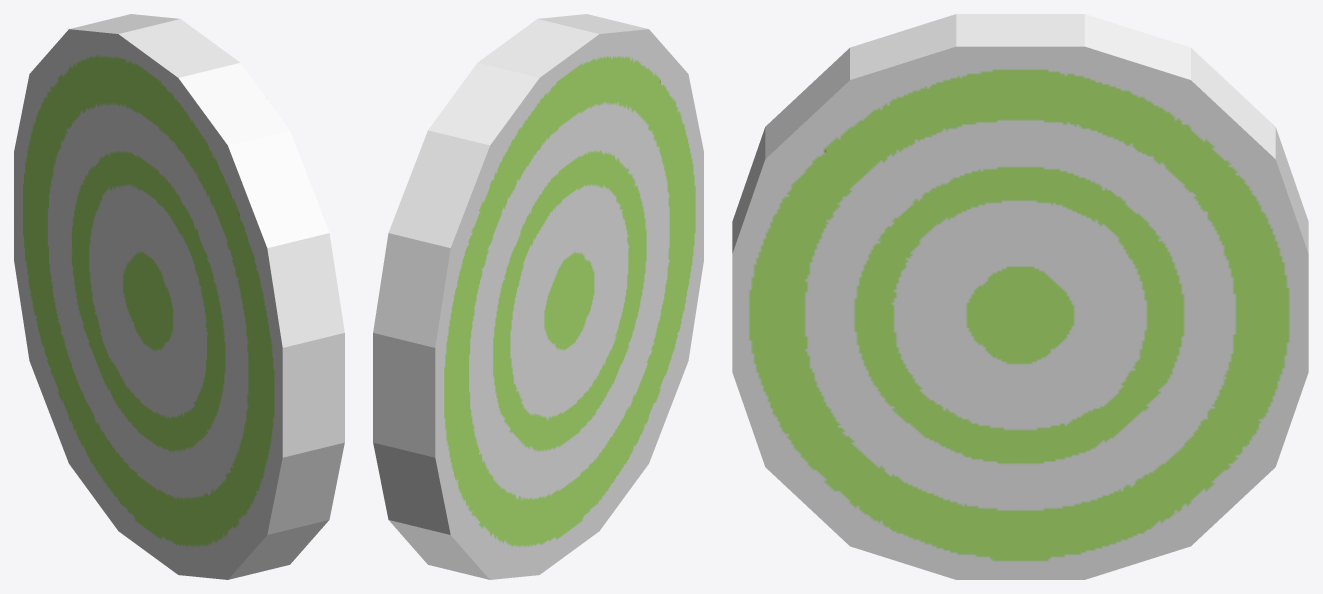
Rendered from Target Green.fbx.
3 views of the same model, side by side, from view 1: azimuth 30°, elevation 25°; view 2: azimuth 150°, elevation 25°; view 3: azimuth 270°, elevation 25° (orthographic). The views are drawn at different scales.
Visible parts, largest first — view 1: Target Green; view 2: Target Green; view 3: Target Green.
Part boxes in pixels (bbox=[...]): Target Green: bbox=[14, 14, 344, 579]; Target Green: bbox=[373, 14, 703, 579]; Target Green: bbox=[732, 14, 1308, 579].
Bounding box in the file's own units: 32.83 × 251 × 246.
